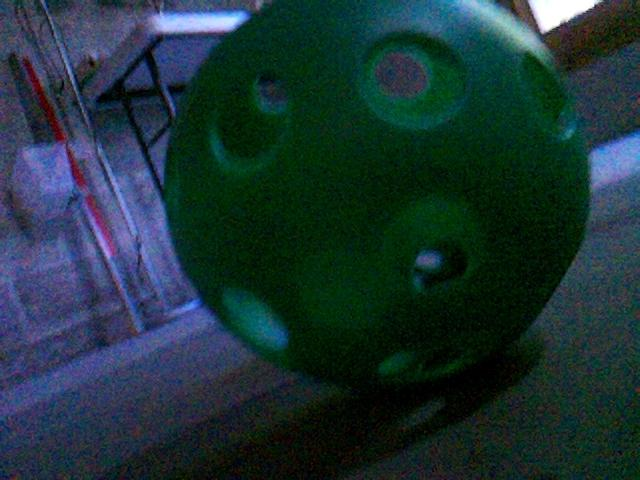Green: (160, 1, 594, 396)
